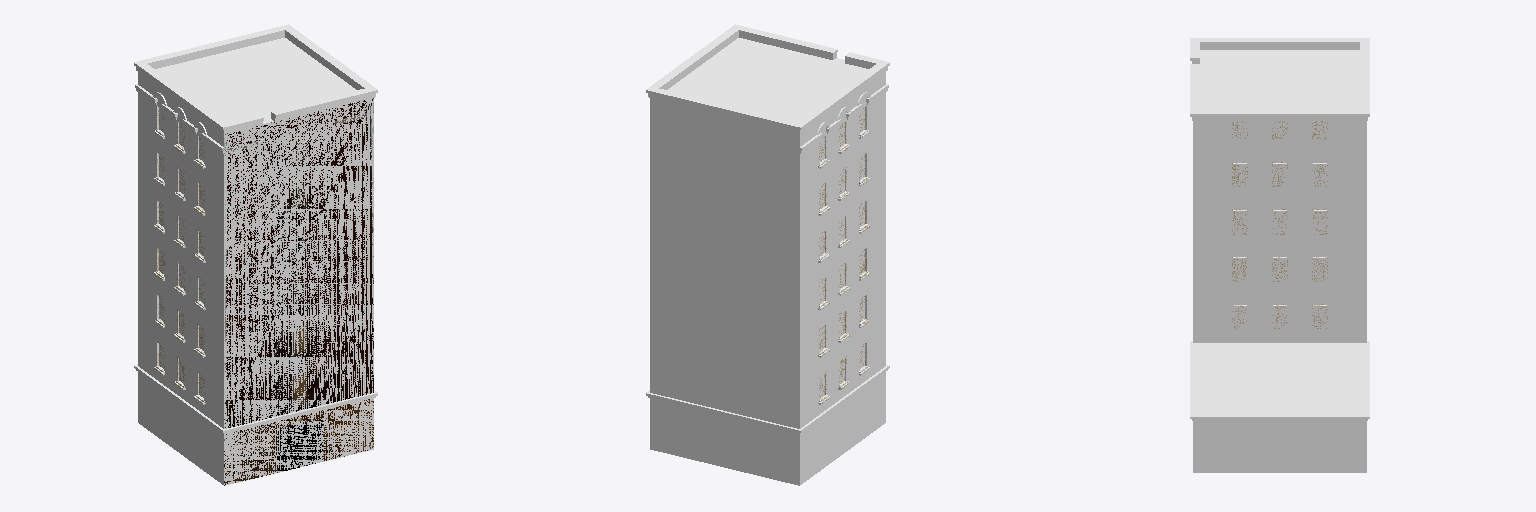
3 renders of one model, left to right at view 1: azimuth 30°, elevation 25°; view 2: azimuth 150°, elevation 25°; view 3: azimuth 270°, elevation 25°, orthographic.
Parts seen in each view (by area): view 1: mesh1_mesh1-geometry; view 2: mesh1_mesh1-geometry; view 3: mesh1_mesh1-geometry.
Part boxes in pixels (x1,y1,x2,y2): mesh1_mesh1-geometry: (134,24,377,485); mesh1_mesh1-geometry: (646,24,889,485); mesh1_mesh1-geometry: (1190,38,1369,472).
Bounding box in the file's own units: 0.3804 × 0.8429 × 0.3804.
Materials: 6 (1 with a texture image).